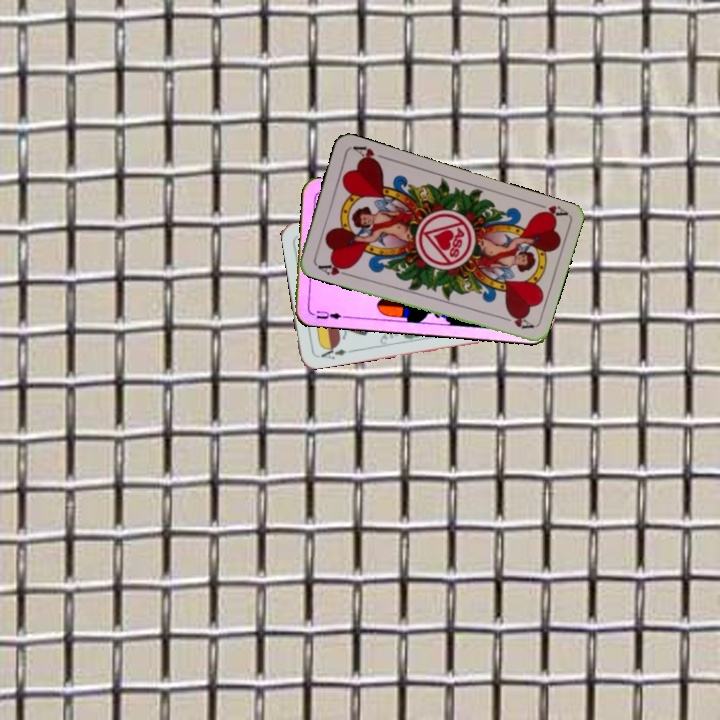EA: (314, 341, 349, 362)
EU: (312, 306, 347, 322)
HA: (529, 199, 569, 222), (312, 258, 352, 278)
